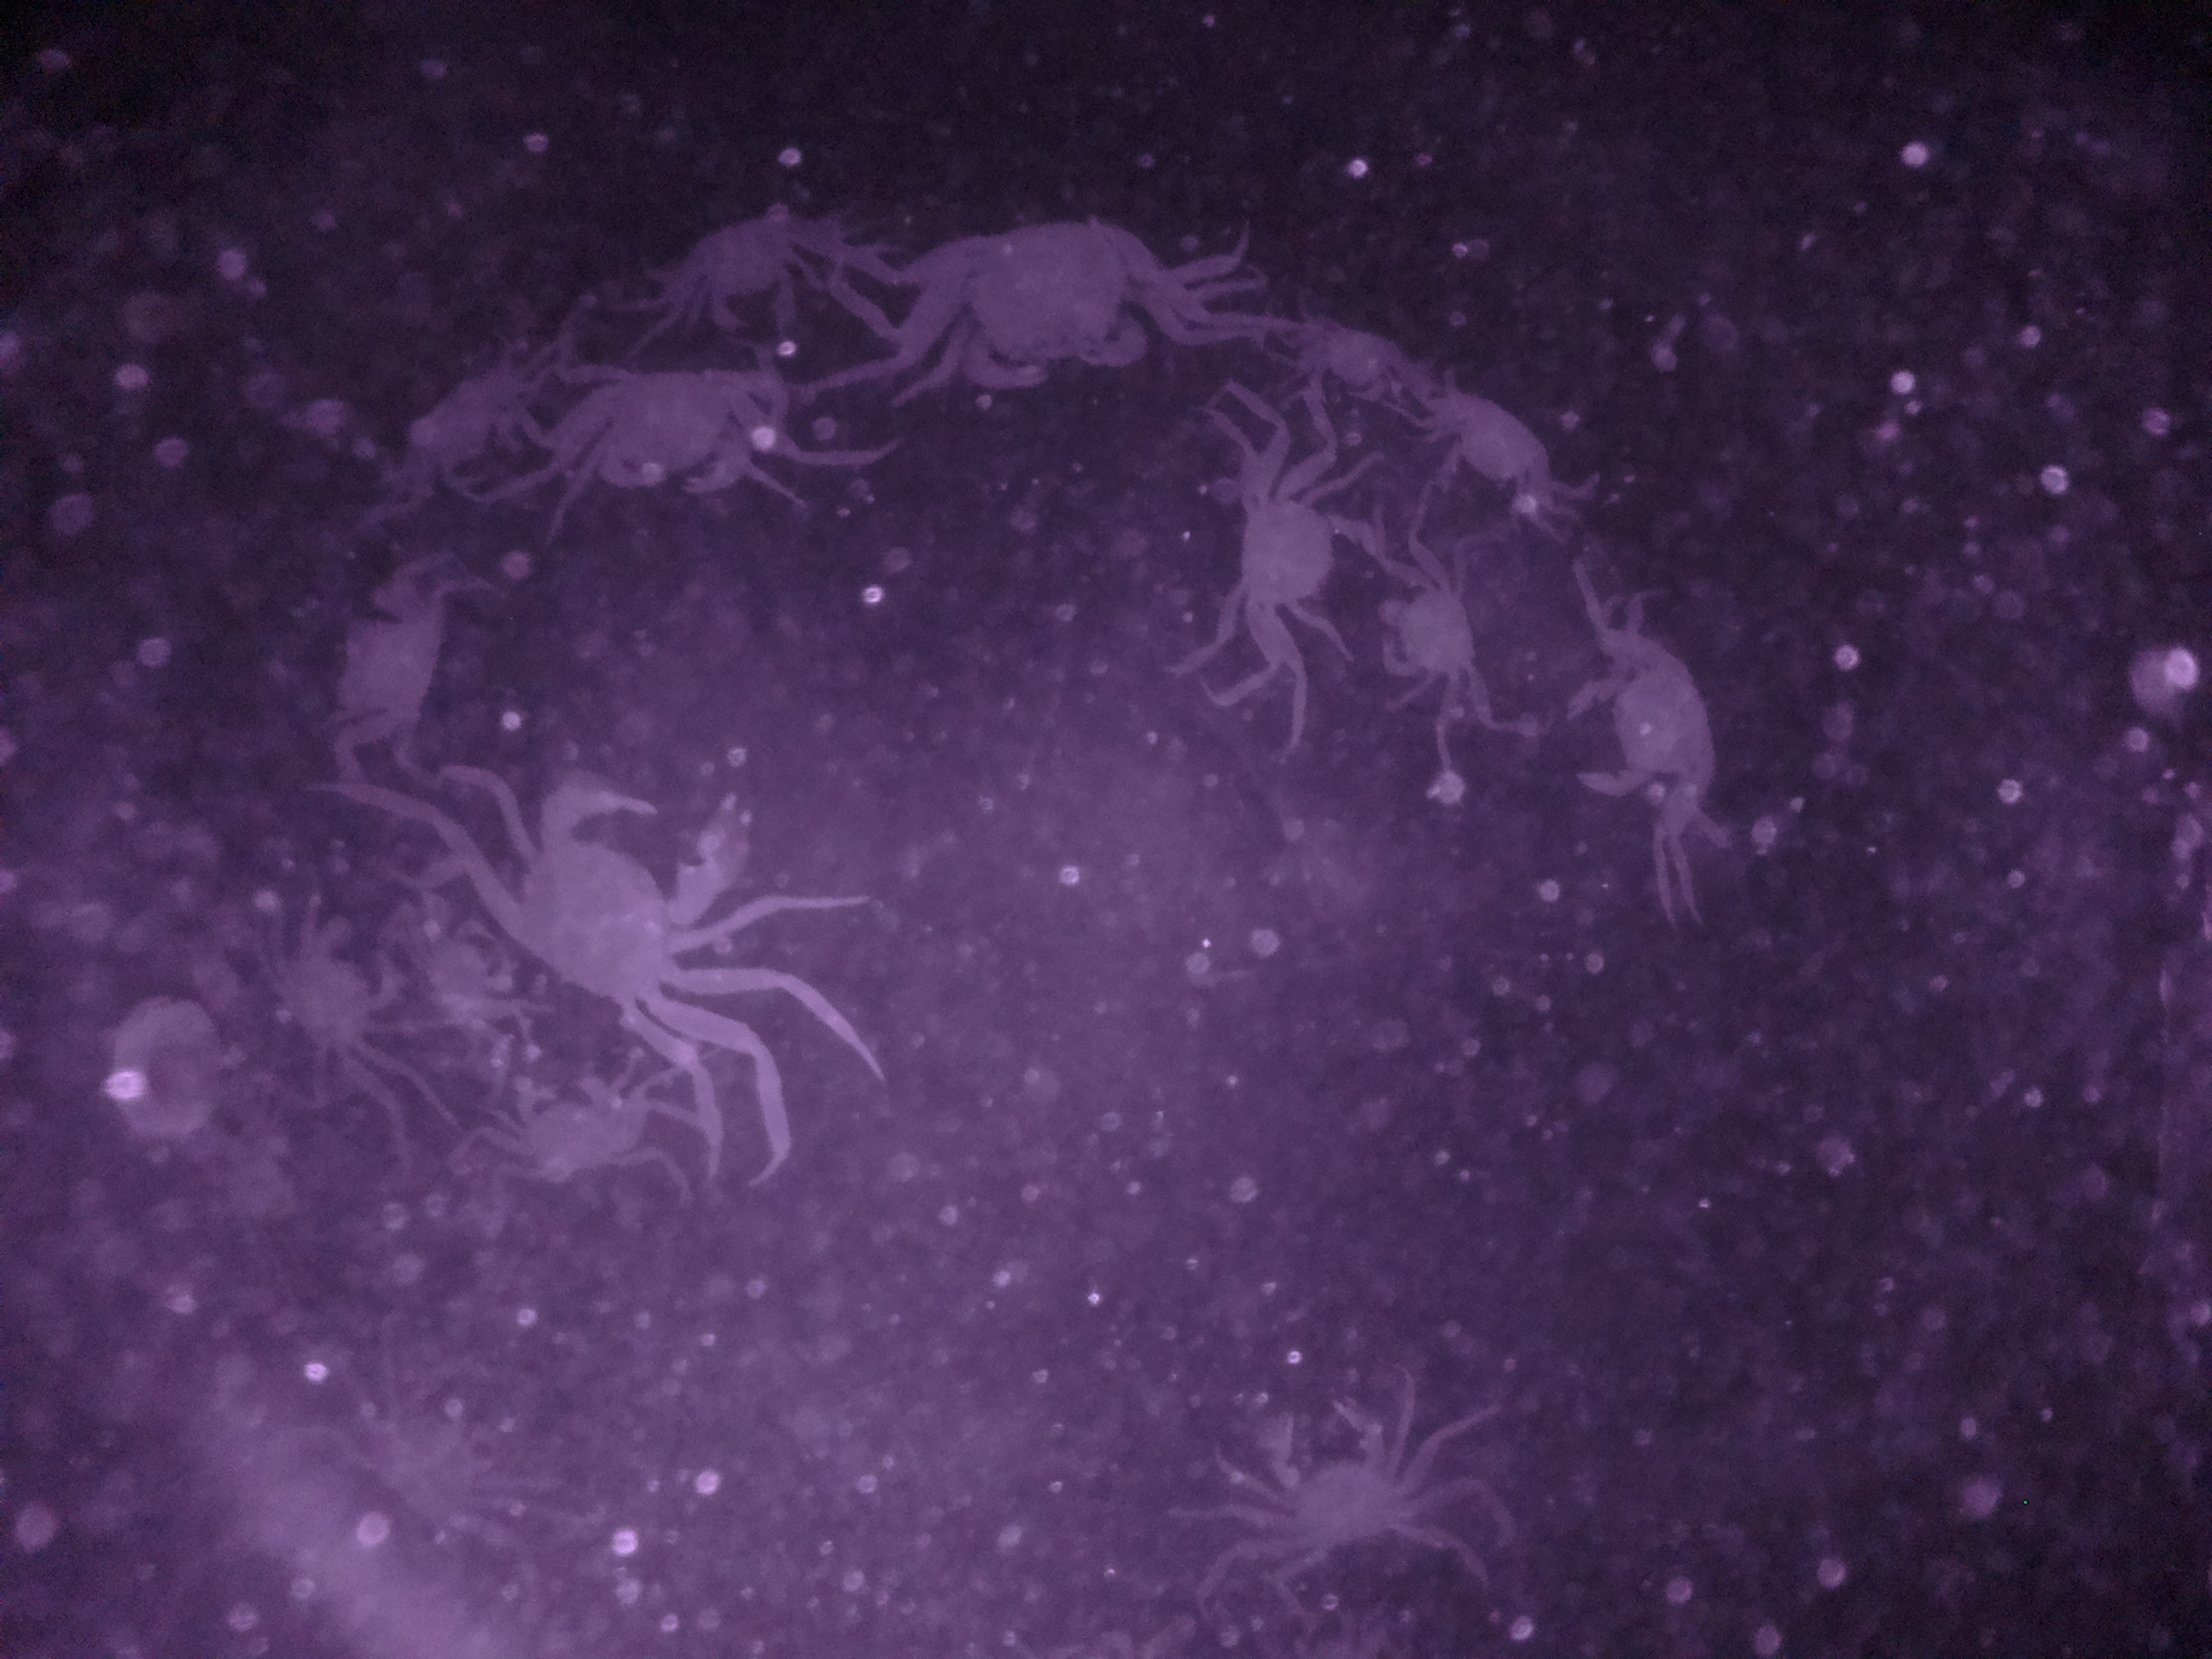Crab: (909, 206, 1209, 406), (1566, 598, 1745, 836), (559, 347, 792, 505), (1256, 1368, 1426, 1577), (1204, 457, 1378, 647), (495, 1060, 664, 1206), (1420, 375, 1571, 532), (1371, 538, 1494, 714)
